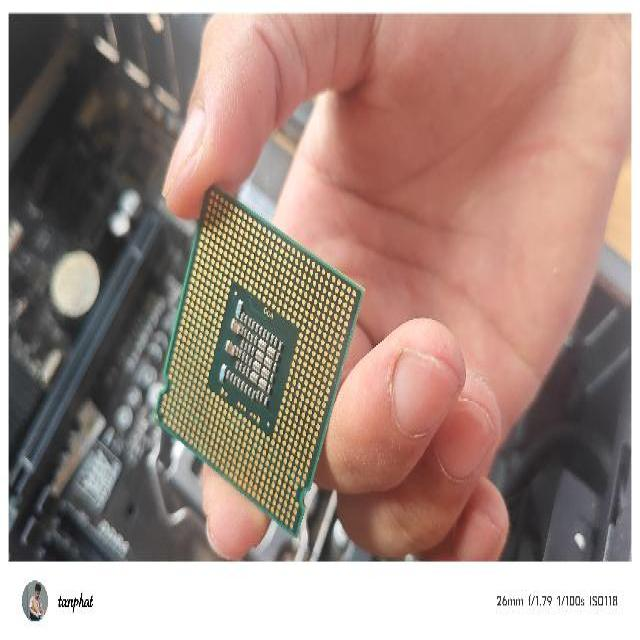CPU: (152, 173, 366, 541)
